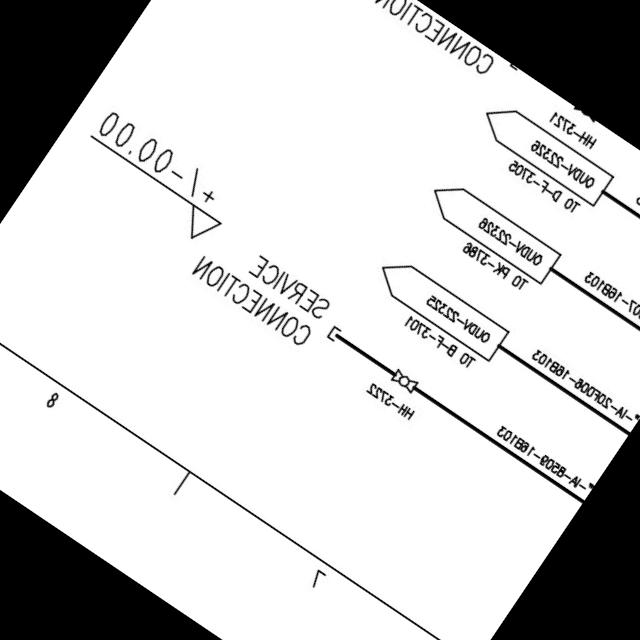BV2: (388, 363, 426, 397)
